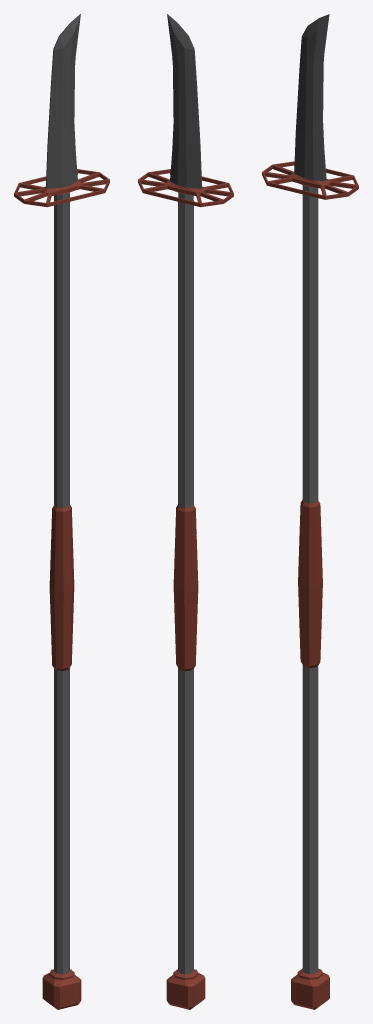
The model's file is Spear.fbx.
3 views of the same model, side by side, from view 1: azimuth 30°, elevation 25°; view 2: azimuth 150°, elevation 25°; view 3: azimuth 330°, elevation 25° (orthographic).
Visible parts, largest first — view 1: Cube; view 2: Cube; view 3: Cube.
Boxes of the visible parts, x1=… form: Cube: x1=14, y1=14, x2=109, y2=1009; Cube: x1=138, y1=14, x2=233, y2=1009; Cube: x1=262, y1=14, x2=358, y2=1009.
Bounding box in the file's own units: 30.92 × 339 × 17.78.
